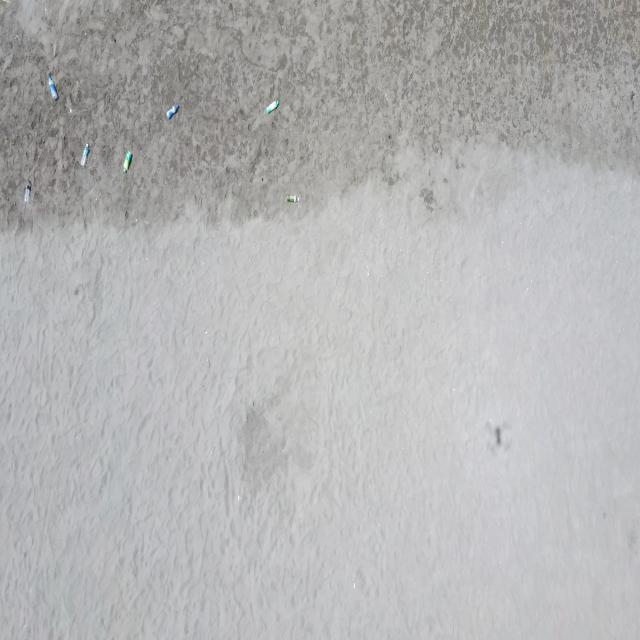plastic-bottle: (47, 74, 58, 100), (122, 150, 133, 175), (265, 98, 281, 115), (166, 102, 180, 120), (80, 143, 90, 168), (24, 179, 33, 206), (286, 192, 300, 204)
